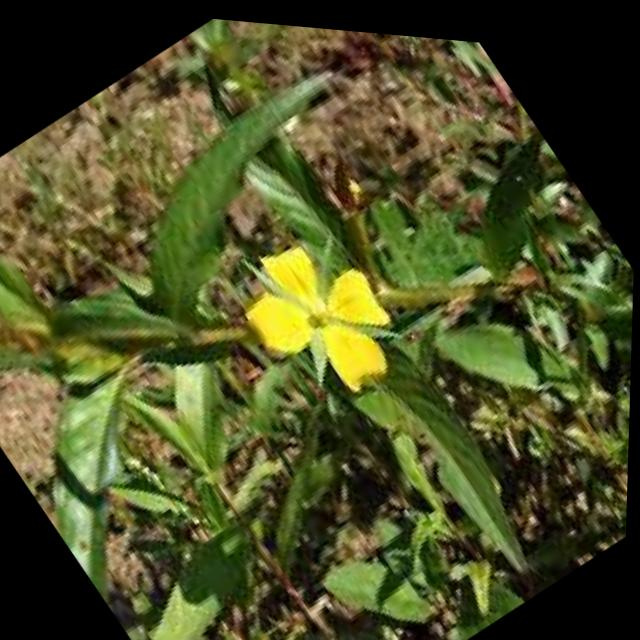Flower: (215, 184, 436, 424)
